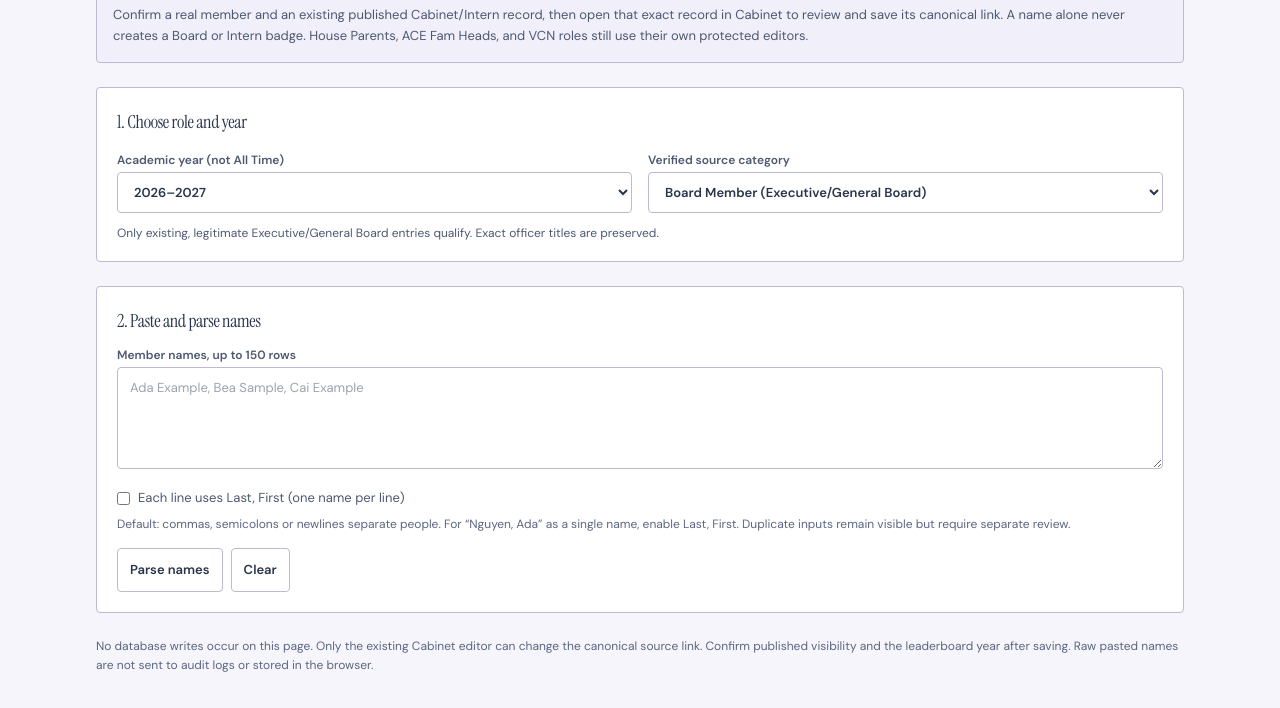
Scenario: fails closed when published role source cannot be read
(page scrolled)
Type "Ada Example" into the text box labelled "Member names, up to 150 rows" at (640, 418), box [117,367,1163,469]
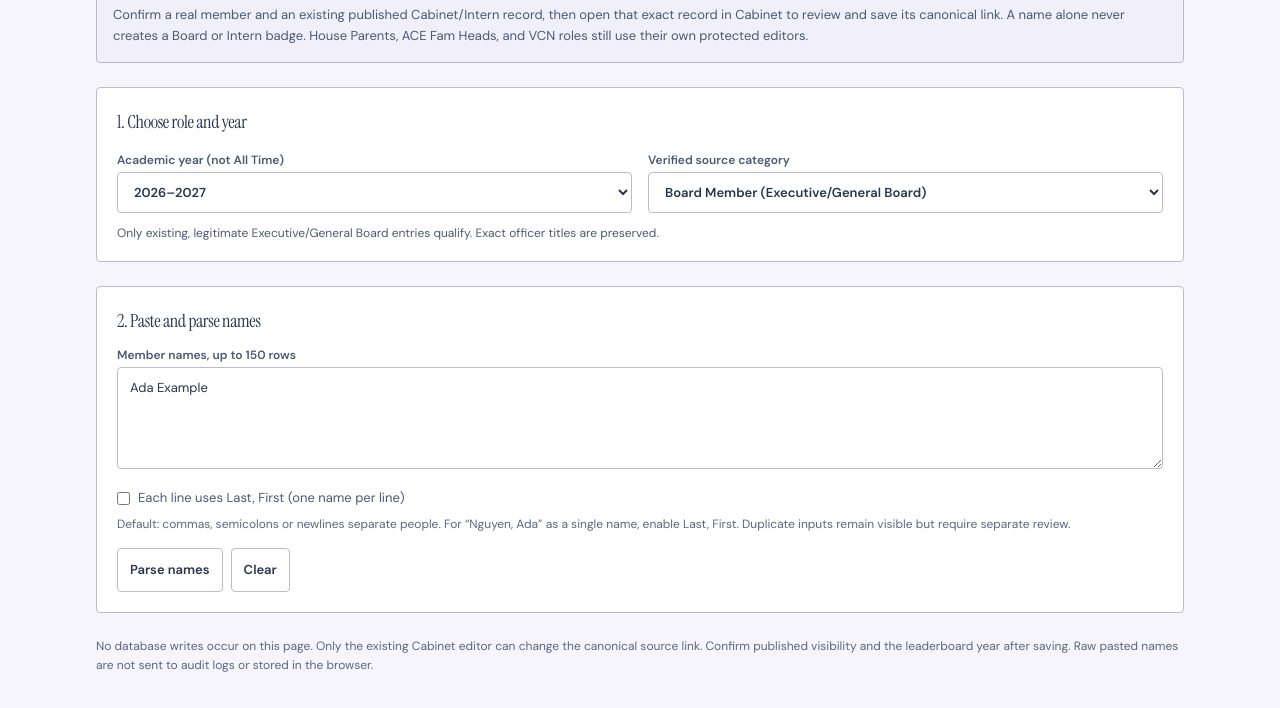
Click the button "Parse names" at (170, 570), box [117,548,223,592]
(page scrolled)
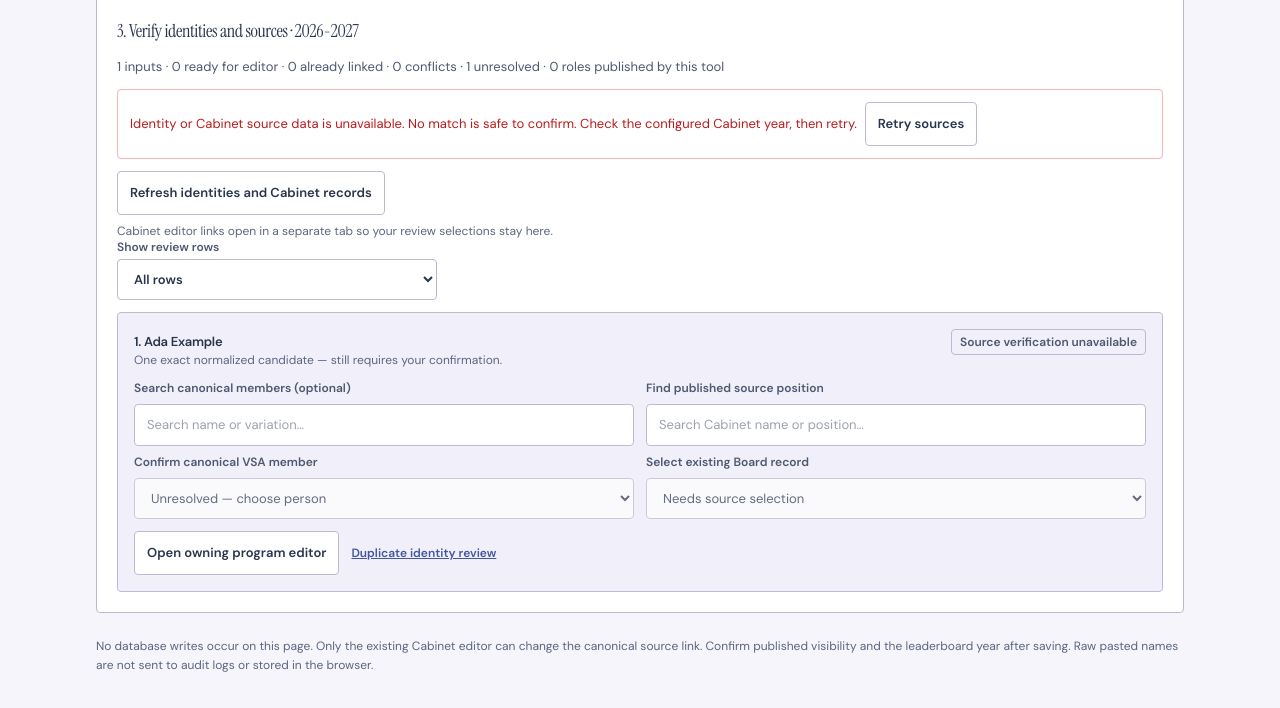
Expected: the 2nd message shows "Identity or Cabinet source data is unavailable", [130,115,857,132]
Expected: the dropdown labelled "Confirm canonical VSA member" is disabled, [134,478,634,519]
Expected: the dropdown labelled "Select existing Board record" is disabled, [646,478,1146,519]
